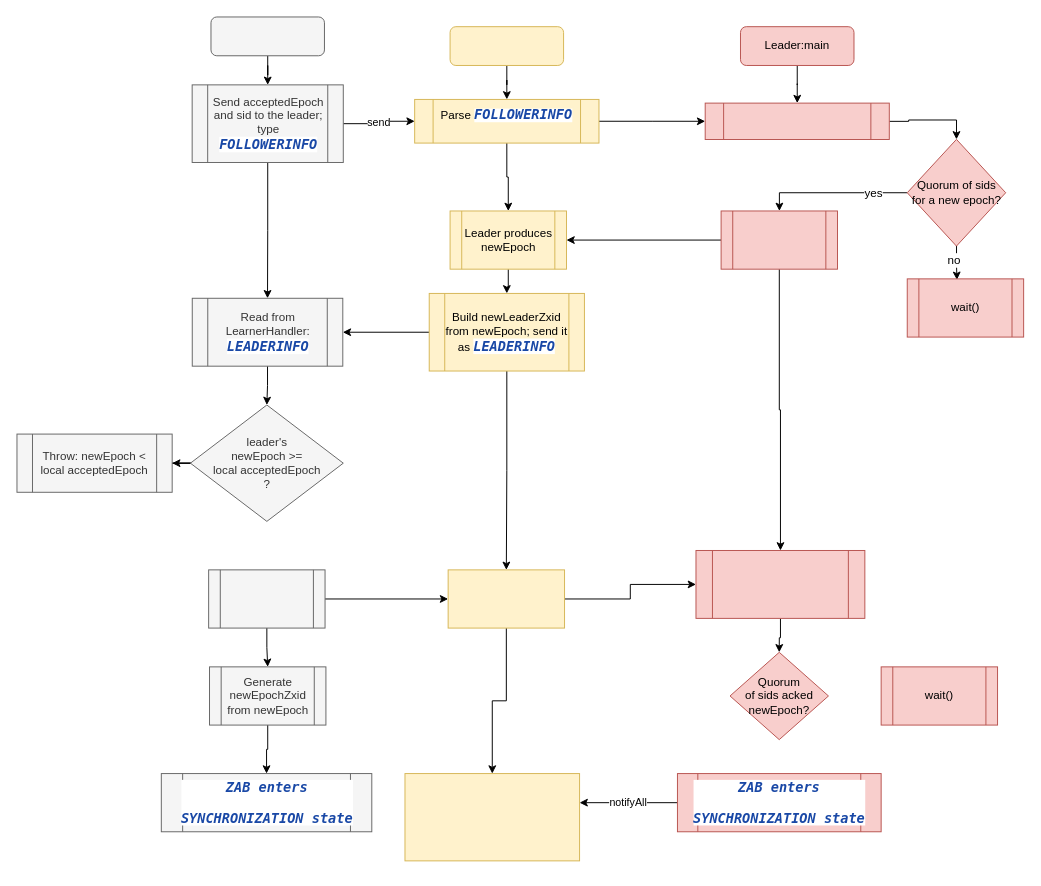
The diagram is 1041 pixels wide and 886 high, and some of its shapes have lost their labels. The shapes that lost their labels are listed below. From the top down, each one's box as (x1, y1, x2, y2) in pixels, then its label:
(210, 16, 324, 56): follower
(449, 26, 564, 65): Leader: LearnerHandler
(704, 102, 889, 139): getEpochToPropose
(720, 210, 837, 269): notifyAll: new epoch produced
(208, 569, 325, 628): Ack newEpoch to the leader; type ACKEPOCH
(447, 569, 565, 628): Parse the follower's ACKEPOCH
(695, 550, 865, 618): waitForEpochAck Wait for a quorum of sids to ack newEpoch
(404, 773, 580, 861): waitForEpochAck returns; call syncFollower,
